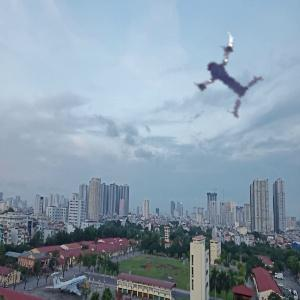drone: (175, 30, 267, 122)
